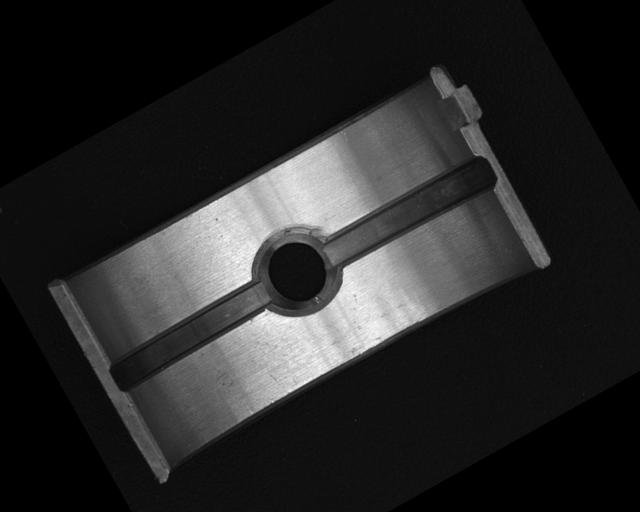gap: (317, 148, 501, 278), (104, 276, 278, 394)
hole: (236, 210, 356, 334)
